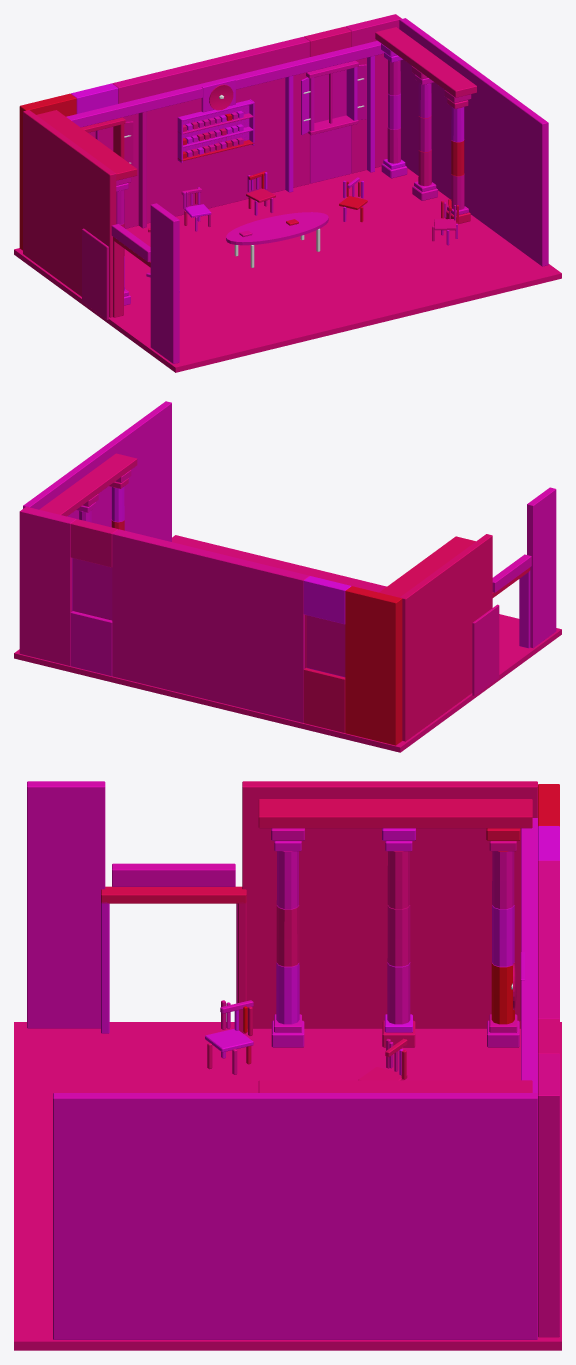
File: court_chapter_04.glb
3 views of the same model, one above another, from view 1: azimuth 30°, elevation 25°; view 2: azimuth 150°, elevation 25°; view 3: azimuth 270°, elevation 25° (orthographic). The views are drawn at different scales.
Visible parts, largest first — view 1: Floor, WallBackPier_1, WallRight, WallLeftRear, WallLeftFront, CouncilFrieze, WallBackPier_end, CouncilTable, ColonnadeCornice_1, CouncilRecords, WallBackLow_1, OpenDoorLeaf (+25 smaller); view 2: WallBackPier_1, WallLeftRear, WallBackPier_0, WallRight, WallBackPier_end, Floor, WallLeftFront, WallBackLow_0, WallBackLow_1, ColonnadeCornice_1, Glazing_1, Glazing_0 (+7 smaller); view 3: WallRight, WallLeftRear, Floor, WallLeftFront, ColonnadeCornice_-1, WallBackPier_end, Column_-1_2, Column_-1_1, Column_-1_0, CouncilFrieze, ColonnadeCornice_1, WallBackPier_1 (+9 smaller).
Boxes of the visible parts, <box> form: Floor: <box>14,166,561,372</box>; WallBackPier_1: <box>112,36,309,228</box>; WallRight: <box>399,18,548,266</box>; WallLeftRear: <box>23,110,116,317</box>; WallLeftFront: <box>150,203,179,363</box>; CouncilFrieze: <box>66,40,383,127</box>; WallBackPier_end: <box>345,14,401,173</box>; CouncilTable: <box>226,212,328,267</box>; ColonnadeCornice_1: <box>375,27,476,97</box>; CouncilRecords: <box>177,99,254,162</box>; WallBackLow_1: <box>310,125,351,183</box>; OpenDoorLeaf: <box>82,228,108,319</box>; WallBackPier_1: <box>112,529,309,722</box>; WallLeftRear: <box>400,534,492,741</box>; WallBackPier_0: <box>345,586,402,745</box>; WallRight: <box>23,401,171,541</box>; WallBackPier_end: <box>19,506,76,665</box>; Floor: <box>14,535,561,752</box>; WallLeftFront: <box>527,487,556,647</box>; WallBackLow_0: <box>303,668,345,732</box>; WallBackLow_1: <box>70,611,112,676</box>; ColonnadeCornice_1: <box>39,453,137,516</box>; Glazing_1: <box>73,558,112,619</box>; Glazing_0: <box>306,615,345,676</box>; WallRight: <box>53,1093,537,1339</box>; WallLeftRear: <box>242,781,537,1028</box>; Floor: <box>14,1022,561,1350</box>; WallLeftFront: <box>27,781,105,1028</box>; ColonnadeCornice_-1: <box>258,799,532,828</box>; WallBackPier_end: <box>538,1053,559,1337</box>; Column_-1_2: <box>271,828,304,1047</box>; Column_-1_1: <box>382,828,415,1047</box>; Column_-1_0: <box>486,828,520,1047</box>; CouncilFrieze: <box>521,818,537,1093</box>; ColonnadeCornice_1: <box>258,1080,532,1092</box>; WallBackPier_1: <box>538,860,559,1019</box>.
Bounding box in the file's own units: 11.7 × 4.25 × 8.4.
